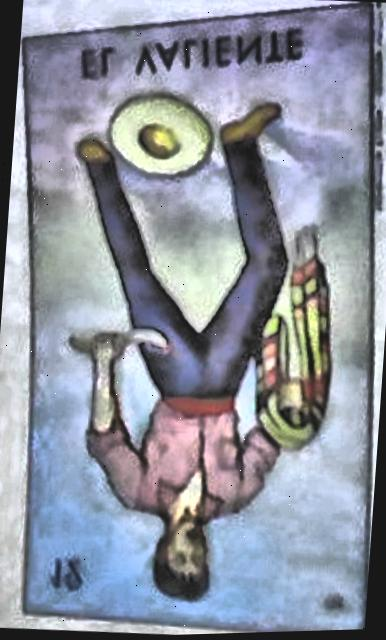El Valiente: (22, 9, 369, 633)
